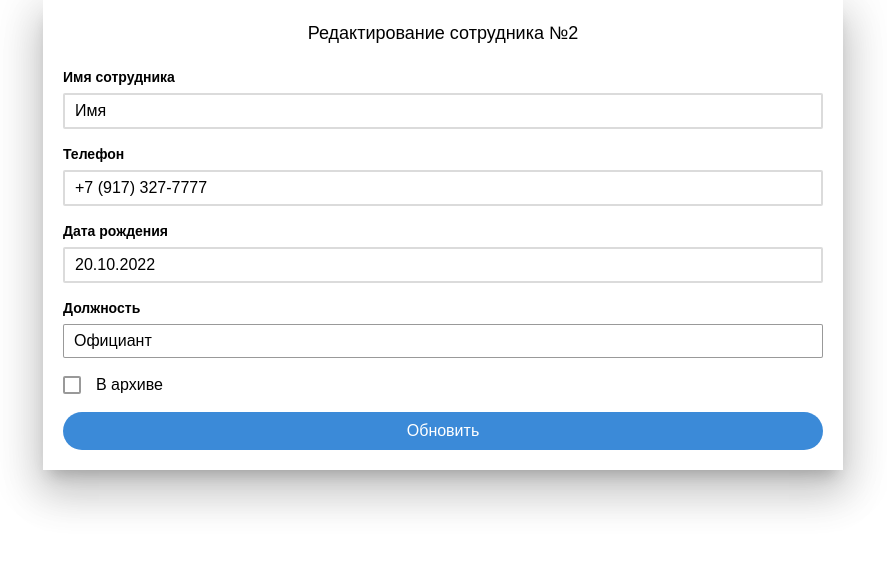
Scenario: editEmployeeForm › should show errors on submit
Type "wr000ng name" into the field with placeholder "Имя" below "Имя сотрудника" at coordinates (443, 111), box x1=63 y1=93 x2=823 y2=129
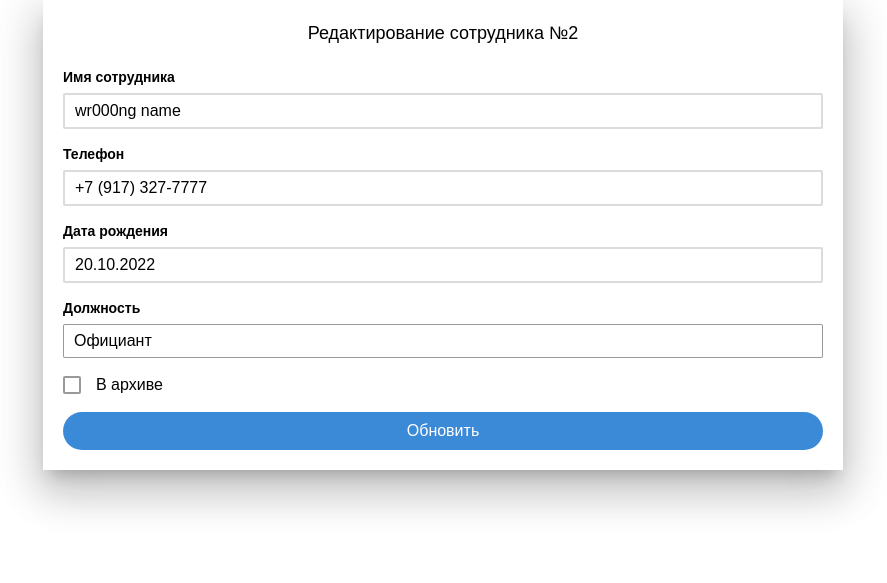
Replace the text in the field with placeholder "Телефон" below "Телефон" with "12345" at coordinates (443, 188), box x1=63 y1=170 x2=823 y2=206
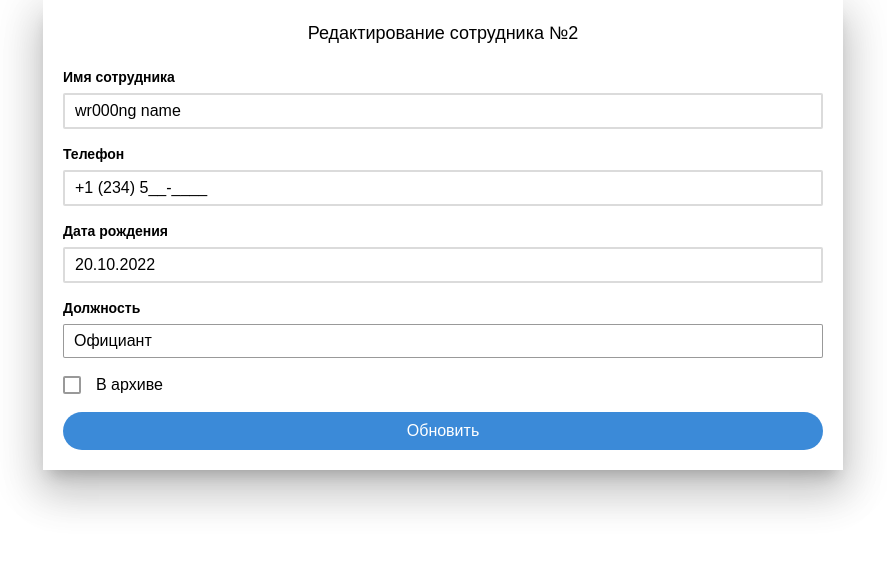
Submit the form with test id "edit-form", box x1=63 y1=47 x2=823 y2=450
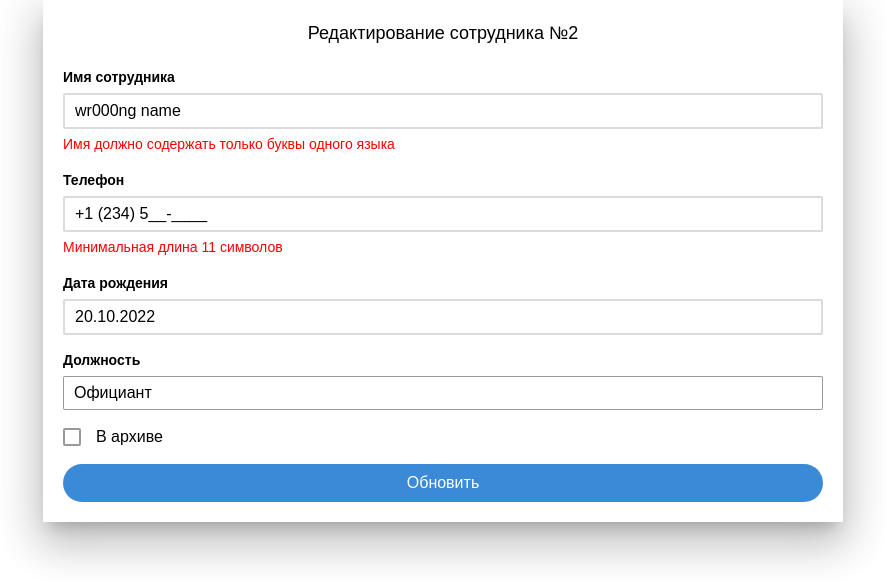
Expected: the text "Имя должно содержать только буквы одного языка" is shown, x1=63 y1=136 x2=395 y2=152
Expected: the text "Минимальная длина 11 символов" is shown, x1=63 y1=239 x2=283 y2=255
